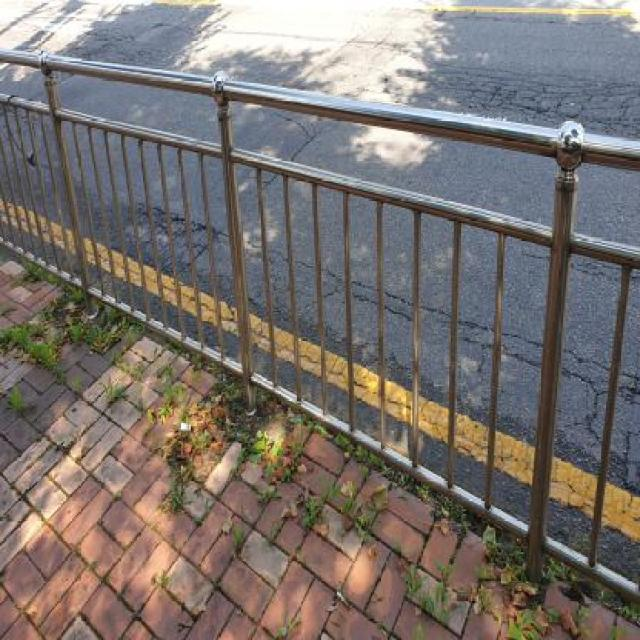fence: (189, 31, 640, 611), (11, 32, 336, 454)
